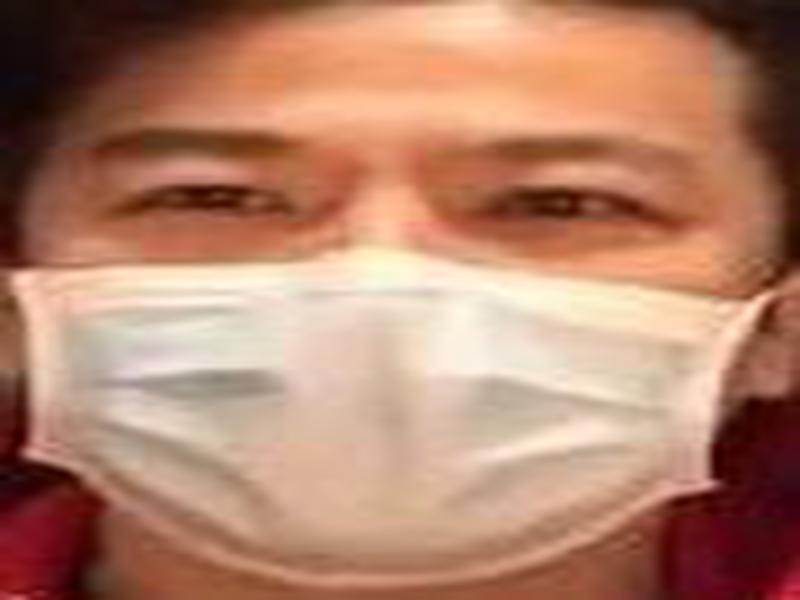with_mask: (1, 15, 772, 600)
